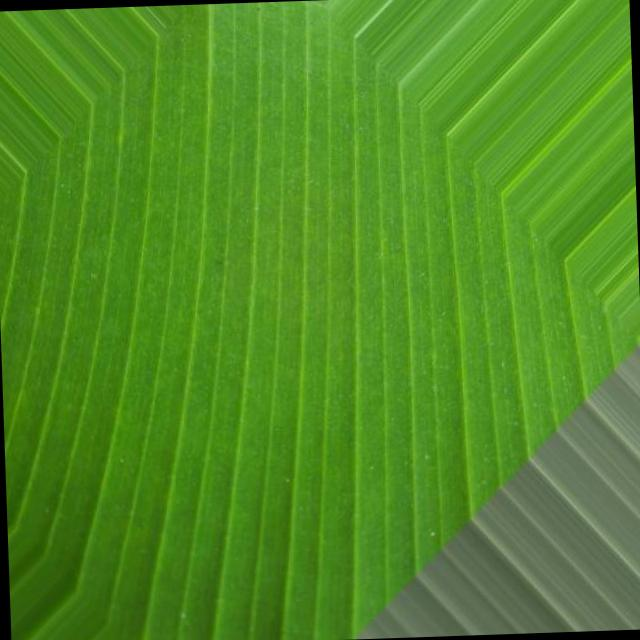Banana_Healthy: (126, 146, 430, 493)
